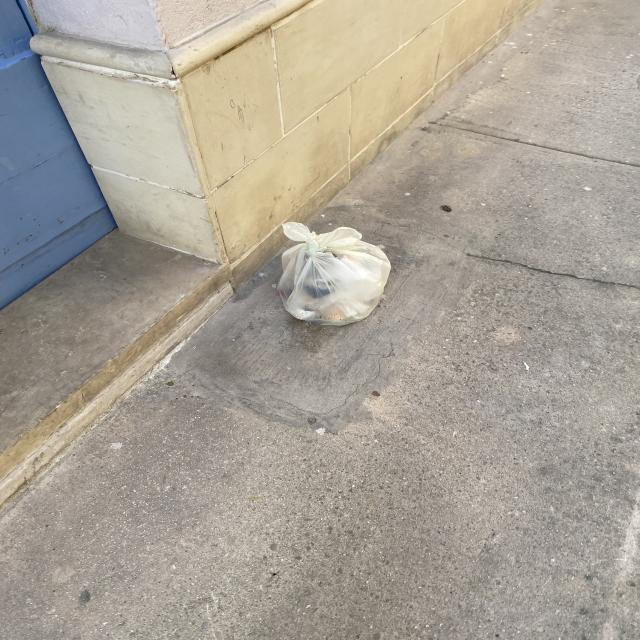Organic Waste: (274, 218, 395, 330)
